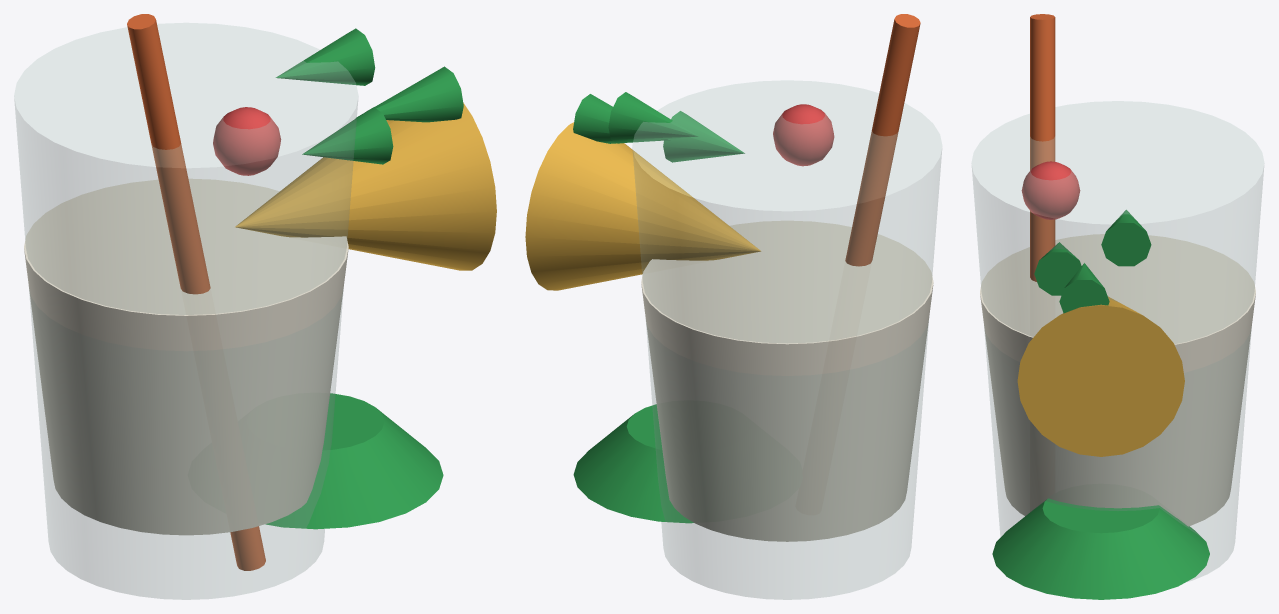
File: pina.glb
3 views of the same model, side by side, from view 1: azimuth 30°, elevation 25°; view 2: azimuth 150°, elevation 25°; view 3: azimuth 270°, elevation 25° (orthographic). The views are drawn at different scales.
Size of the model in its own units: 0.094 by 0.1293 by 0.07.
